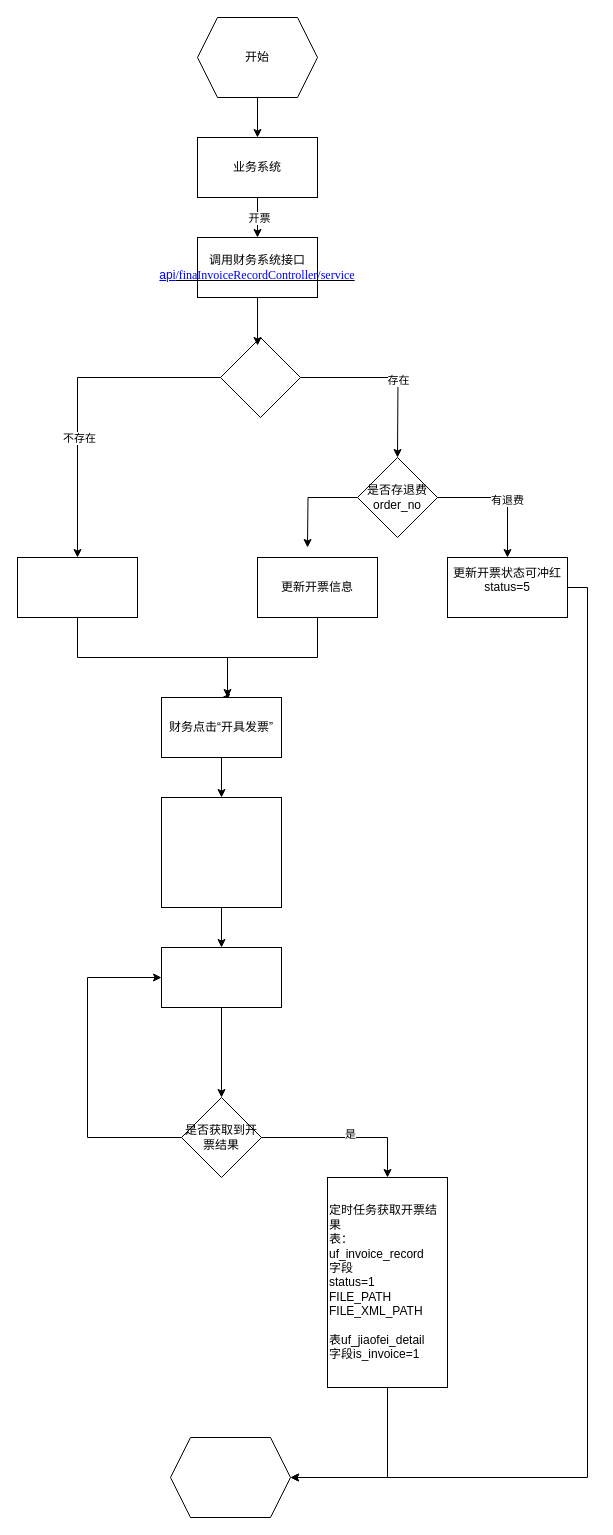
This 613x1535 diagram has some shape labels left out. Here are the shapes that lost their labels. From the top down, the centre of each, then its label:
the point at 260,377: 是否存在相同 order_no
the point at 77,587: 增加开票记录
the point at 221,852: 推送金税开票 表：uf_invoice_record 字段 status=3 增加定时任务task_type =1
the point at 221,977: 定时任务获取开票
the point at 230,1477: 结束
